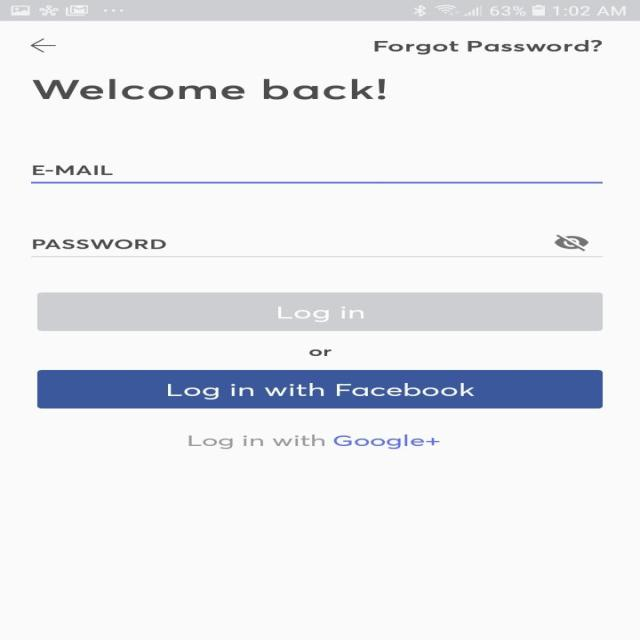EditText: (31, 234, 602, 257), (30, 165, 603, 184)
Icon: (552, 234, 588, 251), (29, 38, 57, 53)
Text: (32, 78, 386, 100), (188, 434, 439, 449), (373, 40, 602, 54), (308, 349, 332, 356)
TextButton: (36, 369, 602, 409), (37, 292, 602, 331)
